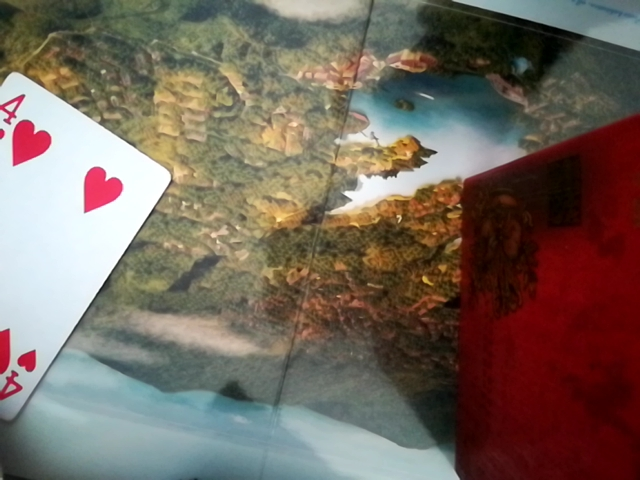hx 4: (0, 67, 169, 428)
